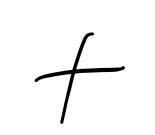plus: (32, 31, 125, 123)
